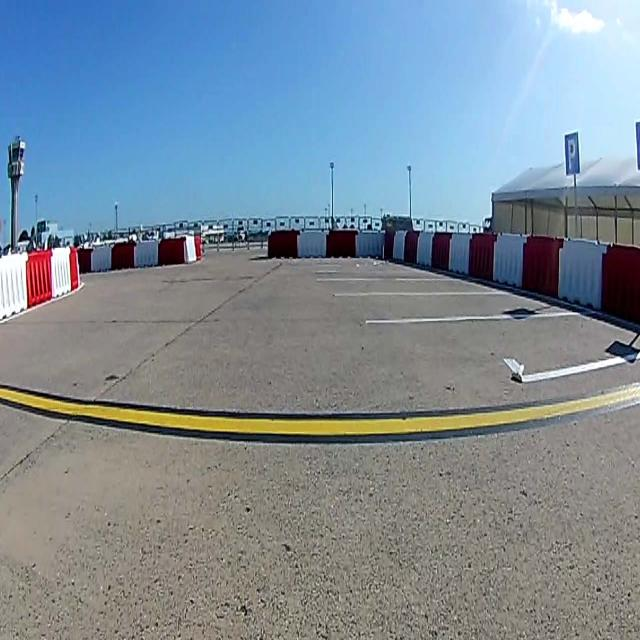park: (563, 132, 579, 174)
